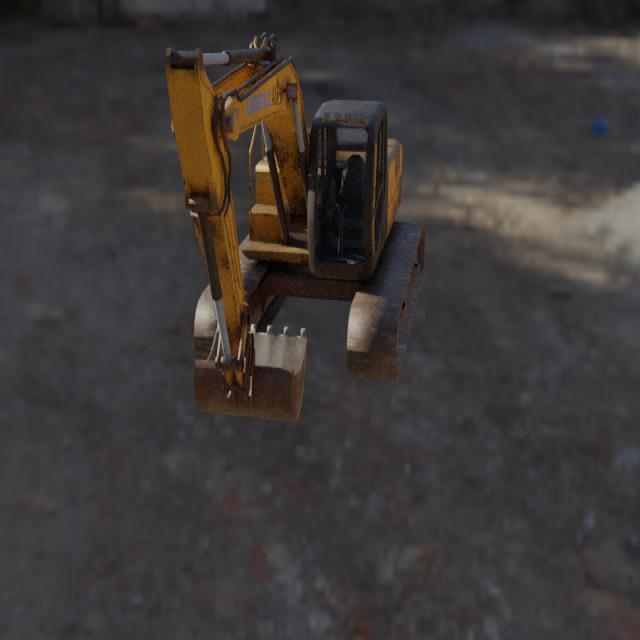excavator: (165, 31, 425, 421)
